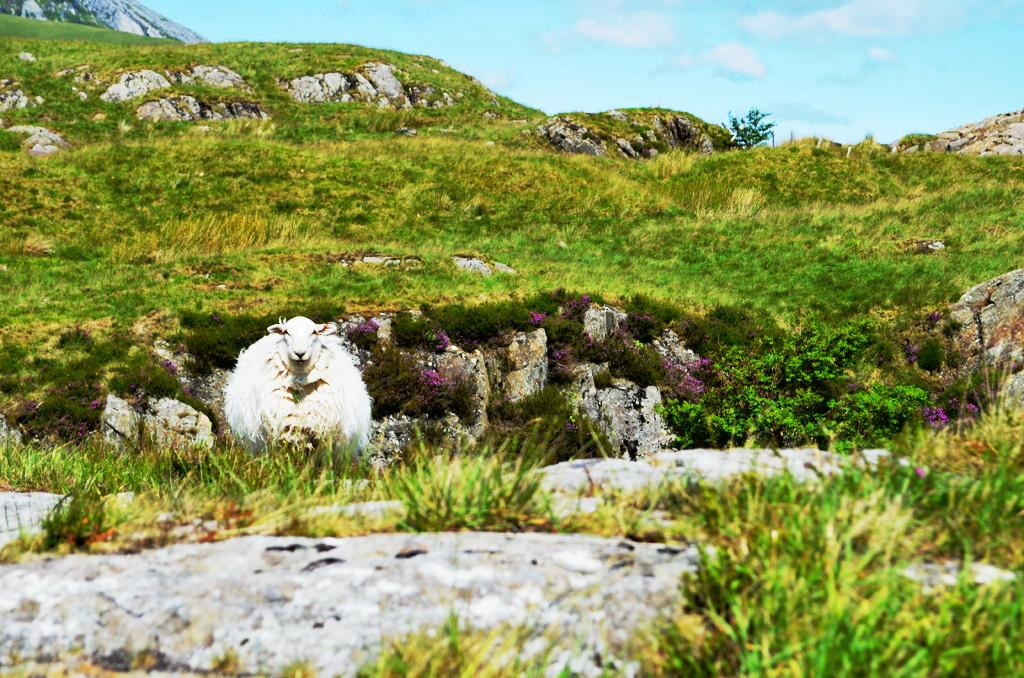Sheep: (207, 300, 371, 468)
